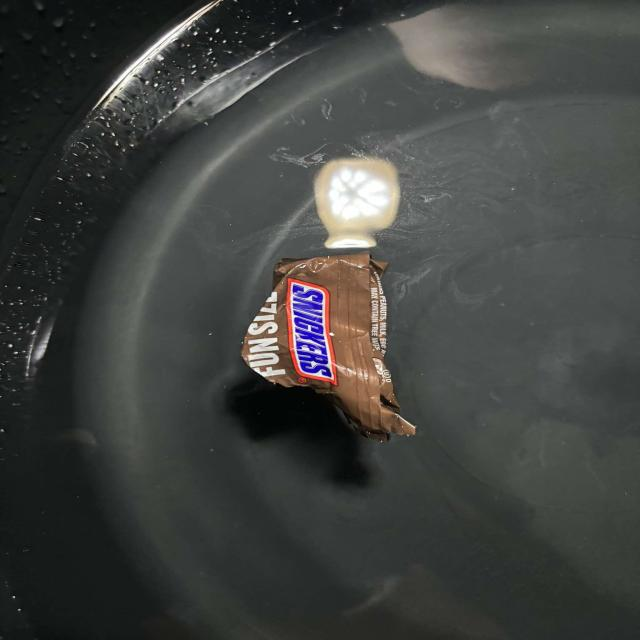Plastic Wrapper: (230, 232, 445, 474)
